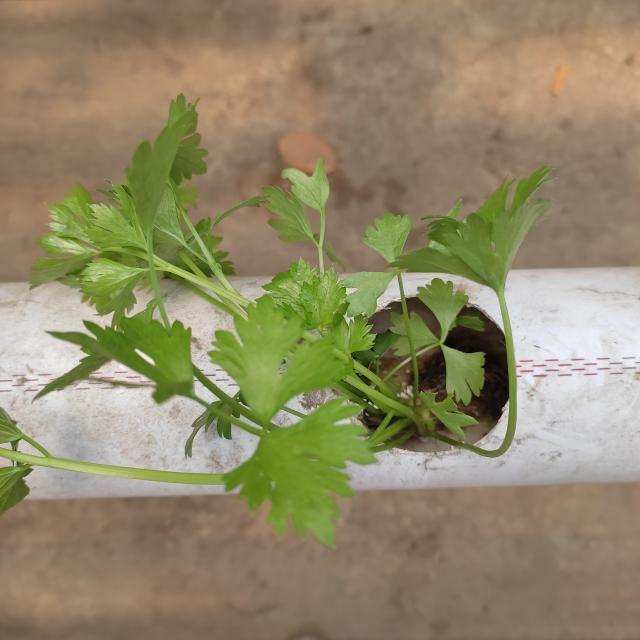Wet Waste: (168, 101, 507, 584)
